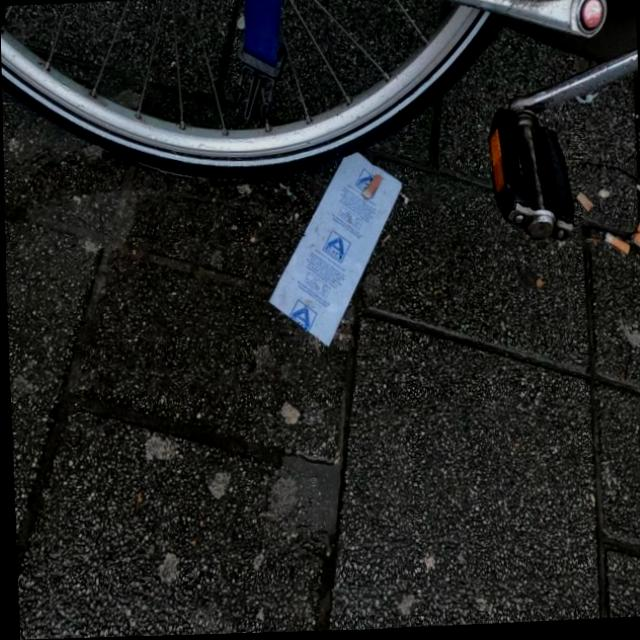Paper: (260, 148, 410, 358)
